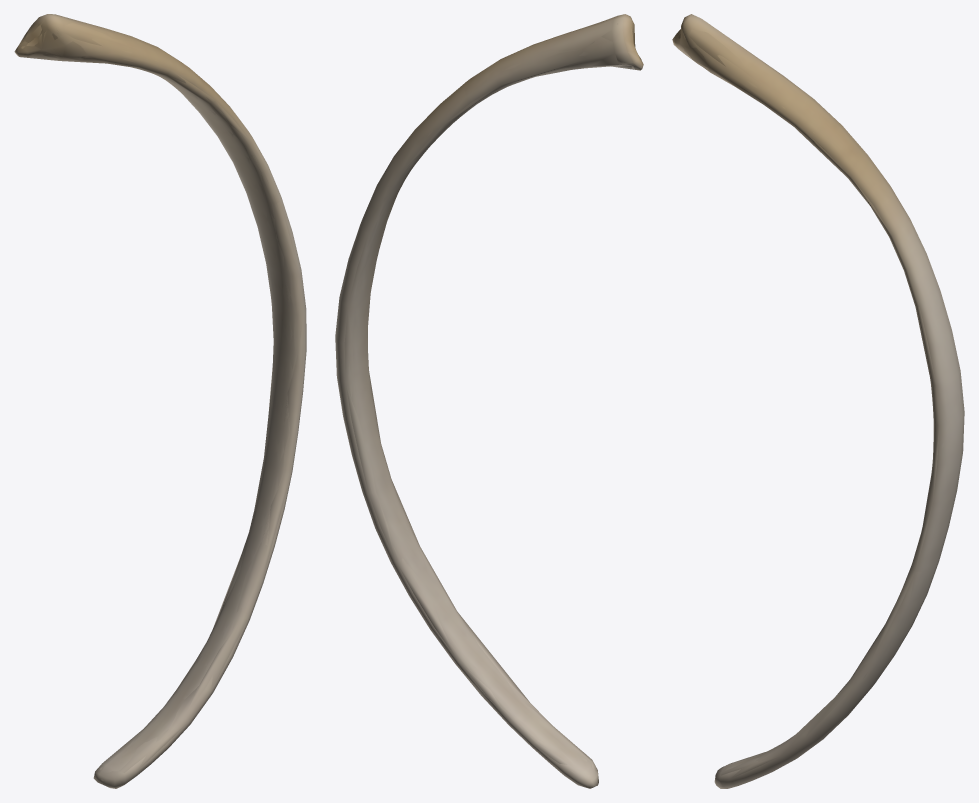
The model's file is Rib L05.fbx.
The picture shows the model from 3 angles, left to right: view 1: azimuth 30°, elevation 25°; view 2: azimuth 150°, elevation 25°; view 3: azimuth 330°, elevation 25°; orthographic projection. The views are drawn at different scales.
Visible parts, largest first — view 1: Rib L05, Rib L05 high, Rib L05 low; view 2: Rib L05, Rib L05 low, Rib L05 high; view 3: Rib L05, Rib L05 low, Rib L05 high.
Part boxes in pixels (left/top/right/bottom): Rib L05: left=14, top=14, right=306, bottom=788; Rib L05 high: left=21, top=20, right=300, bottom=783; Rib L05 low: left=16, top=14, right=304, bottom=786; Rib L05: left=335, top=14, right=643, bottom=788; Rib L05 low: left=335, top=14, right=642, bottom=787; Rib L05 high: left=338, top=23, right=640, bottom=780; Rib L05: left=672, top=14, right=964, bottom=788; Rib L05 low: left=677, top=15, right=962, bottom=786; Rib L05 high: left=675, top=29, right=958, bottom=784.
Size of the model in its own units: 6.33 by 16.12 by 1.9.
Materials: 1 (1 with a texture image).
